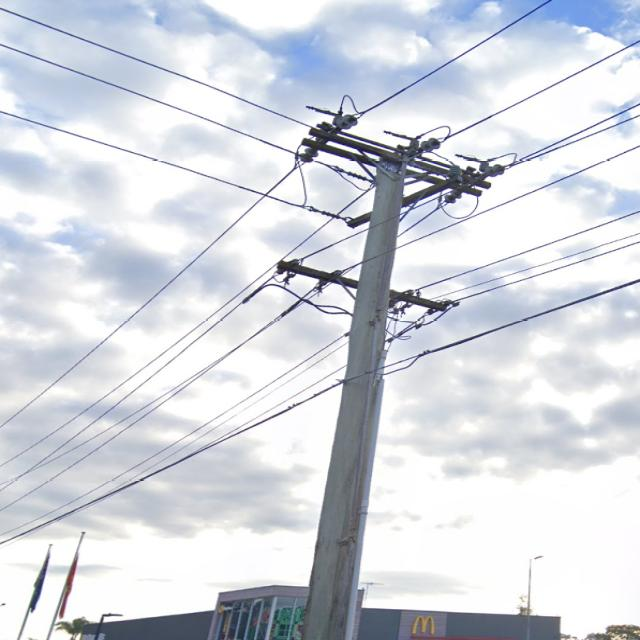HV-transmission: (293, 105, 510, 222)
crossarm: (308, 126, 490, 188), (302, 138, 482, 198), (276, 259, 448, 310), (347, 175, 462, 228)
timber-pole: (298, 153, 405, 640)
